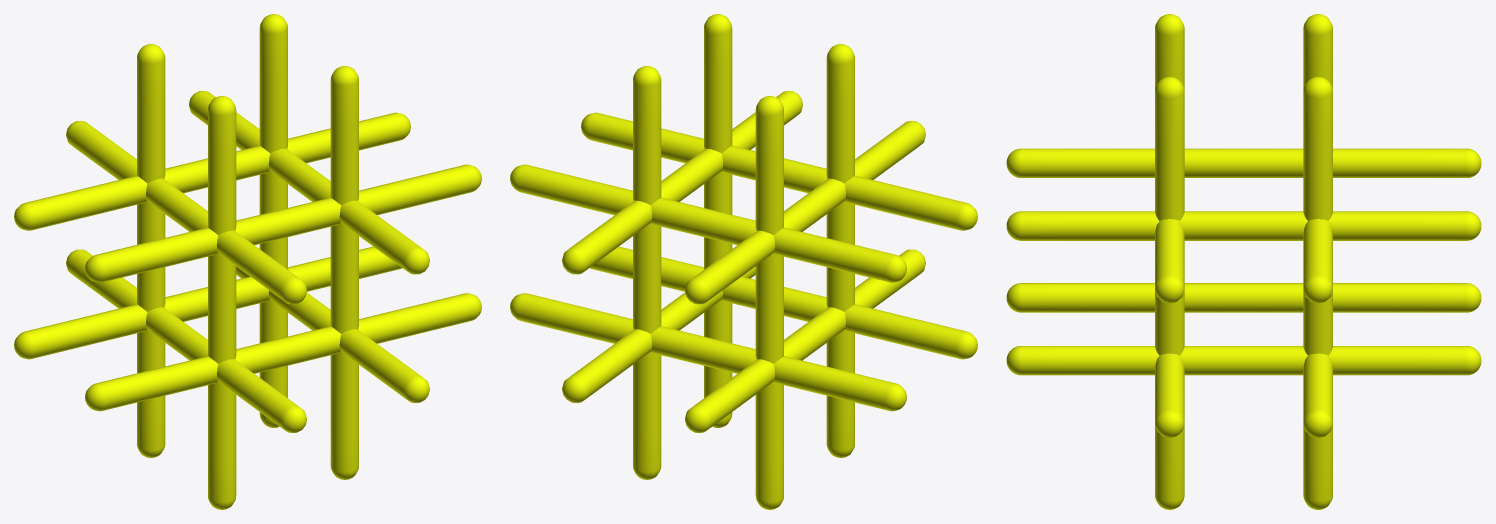
File: matrix.obj
3 renders of one model, left to right at view 1: azimuth 30°, elevation 25°; view 2: azimuth 150°, elevation 25°; view 3: azimuth 270°, elevation 25°, orthographic. The views are drawn at different scales.
Parts seen in each view (by area): view 1: Capsule1, Capsule2, Capsule8, Capsule9, Capsule, Capsule11, Capsule10, Capsule3, Capsule7, Capsule6, Capsule4, Capsule5; view 2: Capsule3, Capsule, Capsule11, Capsule10, Capsule2, Capsule8, Capsule9, Capsule1, Capsule7, Capsule6, Capsule4, Capsule5; view 3: Capsule5, Capsule4, Capsule7, Capsule6, Capsule3, Capsule1, Capsule11, Capsule10, Capsule9, Capsule8, Capsule2, Capsule.
Part boxes in pixels (x1,y1,x2,y2): Capsule1: (330,66,358,479); Capsule2: (208,96,236,509); Capsule8: (85,164,481,282); Capsule9: (85,293,481,411); Capsule: (137,44,165,457); Capsule11: (14,112,410,230); Capsule10: (14,246,402,359); Capsule3: (259,14,287,427); Capsule7: (66,121,306,304); Capsule6: (66,249,306,432); Capsule4: (189,91,429,274); Capsule5: (236,266,429,402); Capsule3: (633,66,661,479); Capsule: (755,96,783,509); Capsule11: (510,164,906,282); Capsule10: (510,293,906,411); Capsule2: (826,44,854,457); Capsule8: (581,112,977,230); Capsule9: (589,246,977,359); Capsule1: (704,14,732,427); Capsule7: (685,121,925,304); Capsule6: (685,249,925,432); Capsule4: (562,91,802,274); Capsule5: (562,266,755,402); Capsule5: (1006,346,1481,375); Capsule4: (1006,211,1481,240); Capsule7: (1006,148,1481,177); Capsule6: (1006,283,1481,312); Capsule3: (1303,76,1332,509); Capsule1: (1155,76,1184,509); Capsule11: (1303,219,1332,303); Capsule10: (1303,353,1332,437); Capsule9: (1155,353,1184,437); Capsule8: (1155,219,1184,303); Capsule2: (1155,14,1184,89); Capsule: (1303,14,1332,89).
Bounding box in the file's own units: 31.98 × 31.98 × 31.98.
